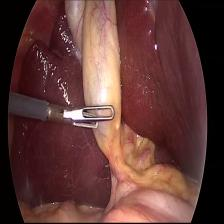Grasper: (9, 92, 116, 129)
